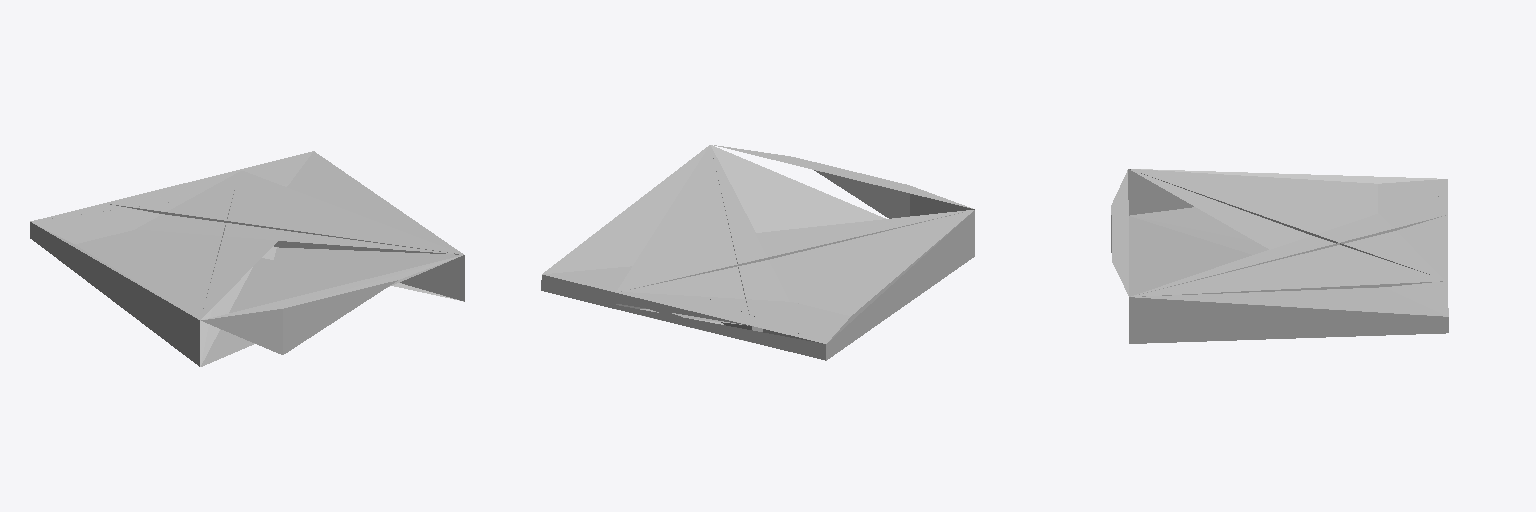
File: Rhino Spike.obj
3 views of the same model, side by side, from view 1: azimuth 30°, elevation 25°; view 2: azimuth 150°, elevation 25°; view 3: azimuth 270°, elevation 25° (orthographic).
Parts seen in each view (by area): view 1: DrawCall_0119, DrawCall_0124, DrawCall_0122, DrawCall_0126, DrawCall_0117, DrawCall_0120; view 2: DrawCall_0119, DrawCall_0122, DrawCall_0124, DrawCall_0120, DrawCall_0117, DrawCall_0126; view 3: DrawCall_0119, DrawCall_0122, DrawCall_0124, DrawCall_0115, DrawCall_0117, DrawCall_0126, DrawCall_0120.
Boxes of the visible parts, <box> form: DrawCall_0119: <box>30,151,464,366</box>; DrawCall_0124: <box>200,190,462,366</box>; DrawCall_0122: <box>107,151,462,254</box>; DrawCall_0126: <box>30,203,132,243</box>; DrawCall_0117: <box>30,222,198,319</box>; DrawCall_0120: <box>104,183,197,229</box>; DrawCall_0119: <box>543,145,974,359</box>; DrawCall_0122: <box>542,145,789,325</box>; DrawCall_0124: <box>616,145,974,360</box>; DrawCall_0120: <box>541,275,790,325</box>; DrawCall_0117: <box>541,215,969,360</box>; DrawCall_0126: <box>753,302,850,343</box>; DrawCall_0119: <box>1131,169,1447,316</box>; DrawCall_0122: <box>1129,213,1448,343</box>; DrawCall_0124: <box>1111,169,1429,296</box>; DrawCall_0115: <box>1129,196,1448,343</box>; DrawCall_0117: <box>1128,169,1442,335</box>; DrawCall_0126: <box>1378,179,1447,214</box>; DrawCall_0120: <box>1144,213,1448,316</box>.
Size of the model in its own units: 23.04 by 3.69 by 23.65.